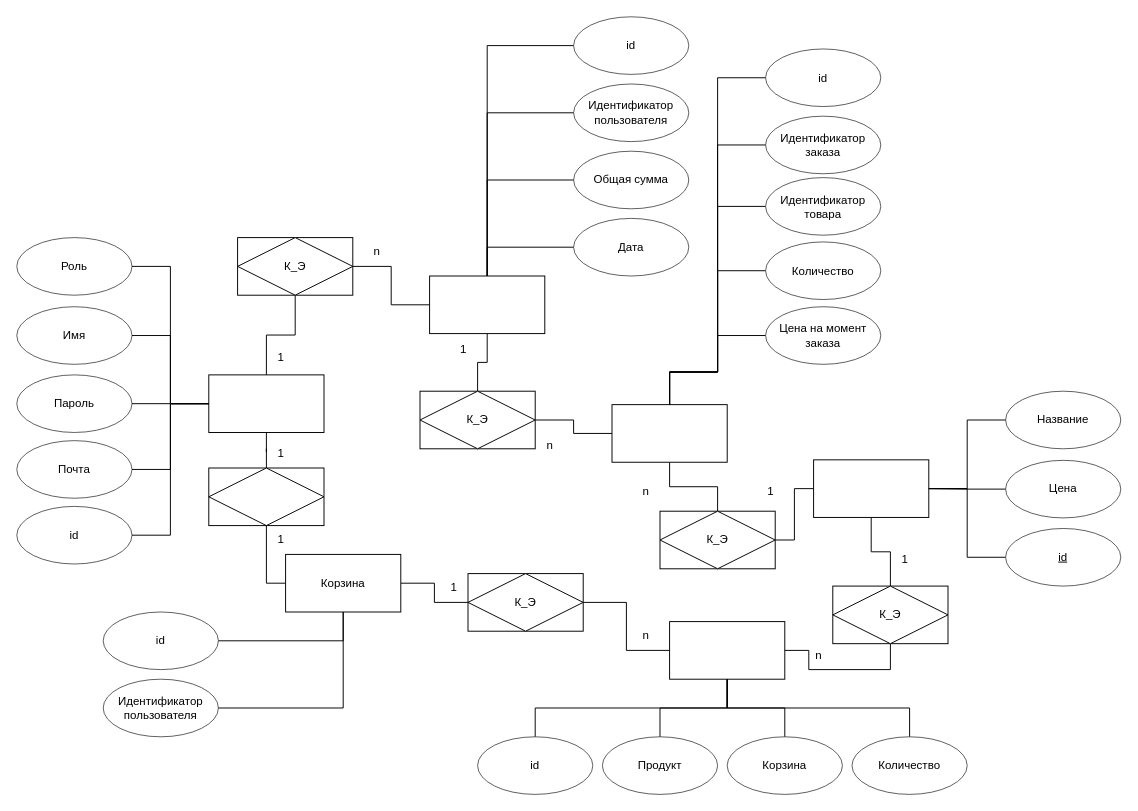
The diagram is 1138 pixels wide and 811 high, and some of its shapes have lost their labels. The centre of each missing label's shape, as x and y in pixels:
"Заказ" belongs at (487,304).
"П_Э" belongs at (266,496).
"Позиция в заказе" belongs at (669,433).
"Пользователь" belongs at (266,403).
"Товар" belongs at (871,488).
"Элемент корзины" belongs at (727,650).
